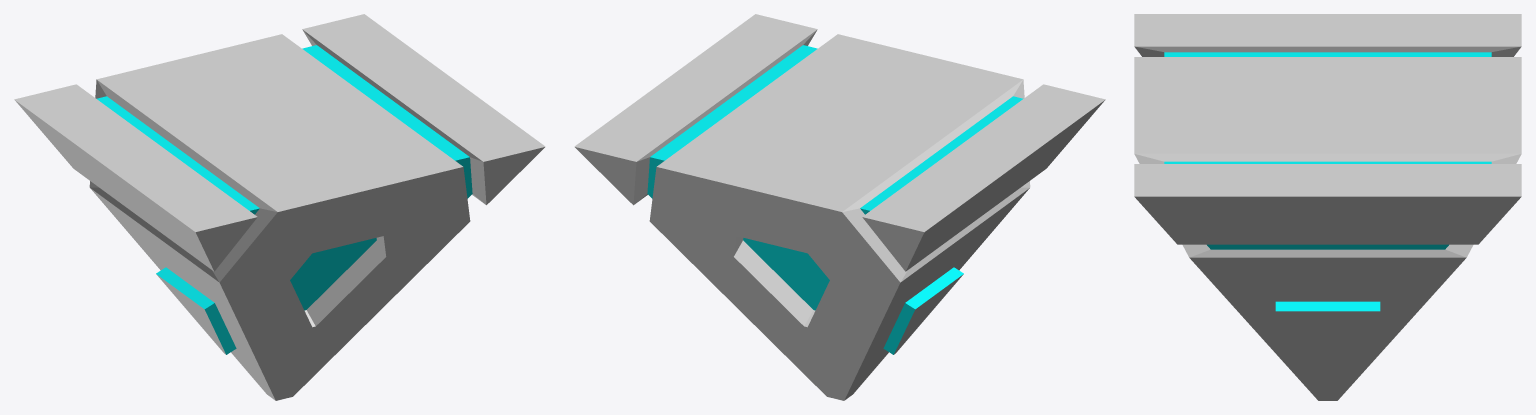
Rendered from Platform_v4.fbx.
3 views of the same model, side by side, from view 1: azimuth 30°, elevation 25°; view 2: azimuth 150°, elevation 25°; view 3: azimuth 270°, elevation 25° (orthographic). The views are drawn at different scales.
Visible parts, largest first — view 1: Platform_v4; view 2: Platform_v4; view 3: Platform_v4.
Boxes of the visible parts, x1,y1,x2,y2 form: Platform_v4: (14, 14, 545, 400); Platform_v4: (574, 14, 1105, 400); Platform_v4: (1134, 14, 1521, 400).
Bounding box in the file's own units: 2.73 × 2.03 × 2.45.
